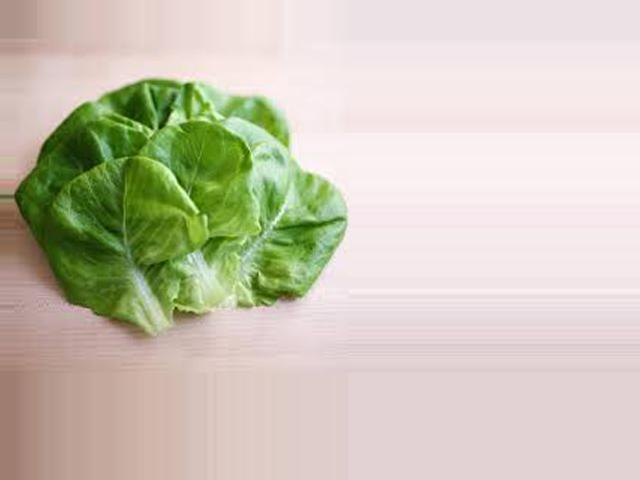lettuce: (20, 77, 337, 322)
